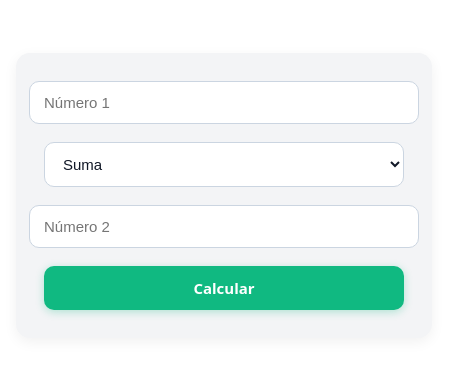
Calculator component › Error si los valores no son números.
The width and height of the screenshot is (449, 392).
Click the button "Calcular": click(224, 288) left=44, top=266, right=404, bottom=310
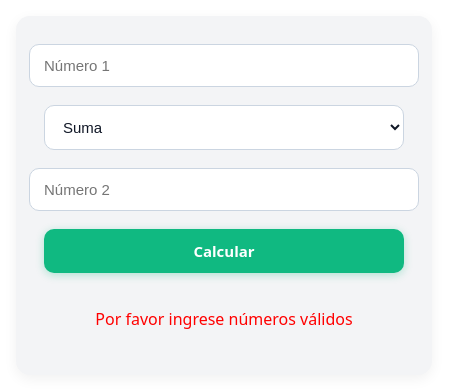
Now the text "Por favor ingrese números válidos" is shown, box left=95, top=306, right=353, bottom=330
